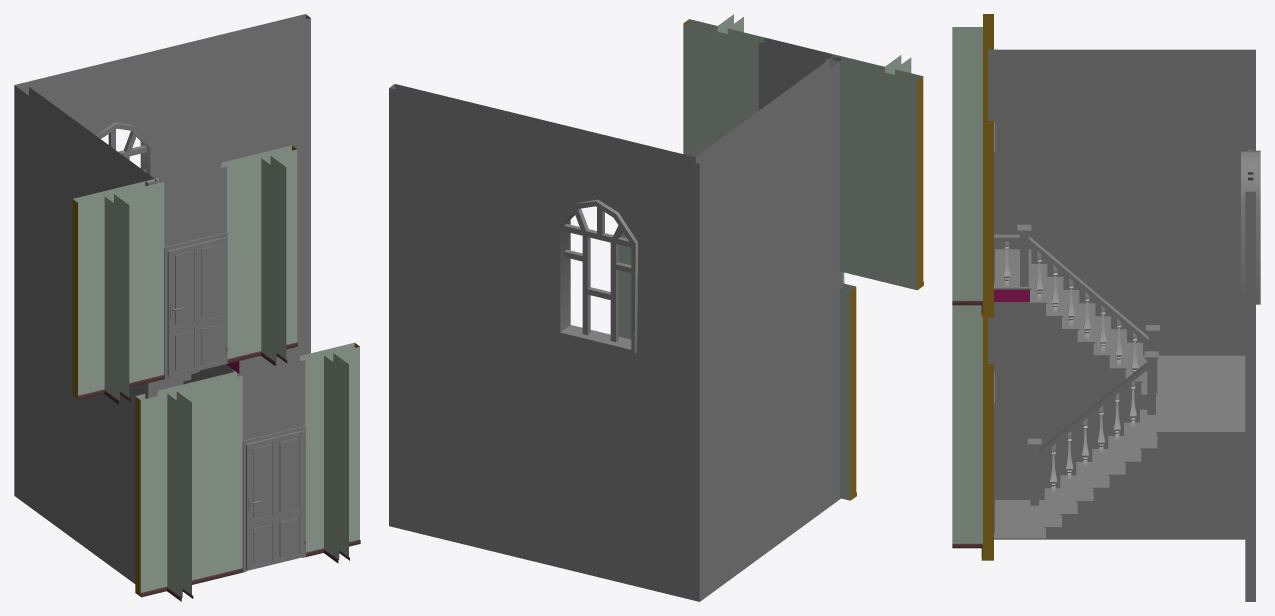
Rendered from mod_Treppe.fbx.
The picture shows the model from 3 angles, left to right: view 1: azimuth 30°, elevation 25°; view 2: azimuth 150°, elevation 25°; view 3: azimuth 270°, elevation 25°; orthographic projection. The views are drawn at different scales.
Visible parts, largest first — view 1: Treppe, Wand_Oben, Wand_Unten, Tuer_o, Tuer_u, Tuerrahmen_unten, Tuerrahmen_oben; view 2: Treppe, Wand_Oben, Wand_Unten, Tuerrahmen_oben; view 3: Treppe, Wand_Oben, Wand_Unten.
Boxes of the visible parts, <box> form: Treppe: <box>14,14,310,583</box>; Wand_Oben: <box>72,145,297,404</box>; Wand_Unten: <box>135,342,360,601</box>; Tuer_o: <box>167,237,227,377</box>; Tuer_u: <box>246,430,305,570</box>; Tuerrahmen_unten: <box>237,356,305,572</box>; Tuerrahmen_oben: <box>158,162,227,378</box>; Treppe: <box>389,57,842,601</box>; Wand_Oben: <box>683,14,923,290</box>; Wand_Unten: <box>618,232,856,500</box>; Tuerrahmen_oben: <box>758,37,831,110</box>; Treppe: <box>988,49,1260,601</box>; Wand_Oben: <box>952,14,993,317</box>; Wand_Unten: <box>952,305,993,560</box>.
Bounding box in the file's own units: 1162 × 1252 × 853.
